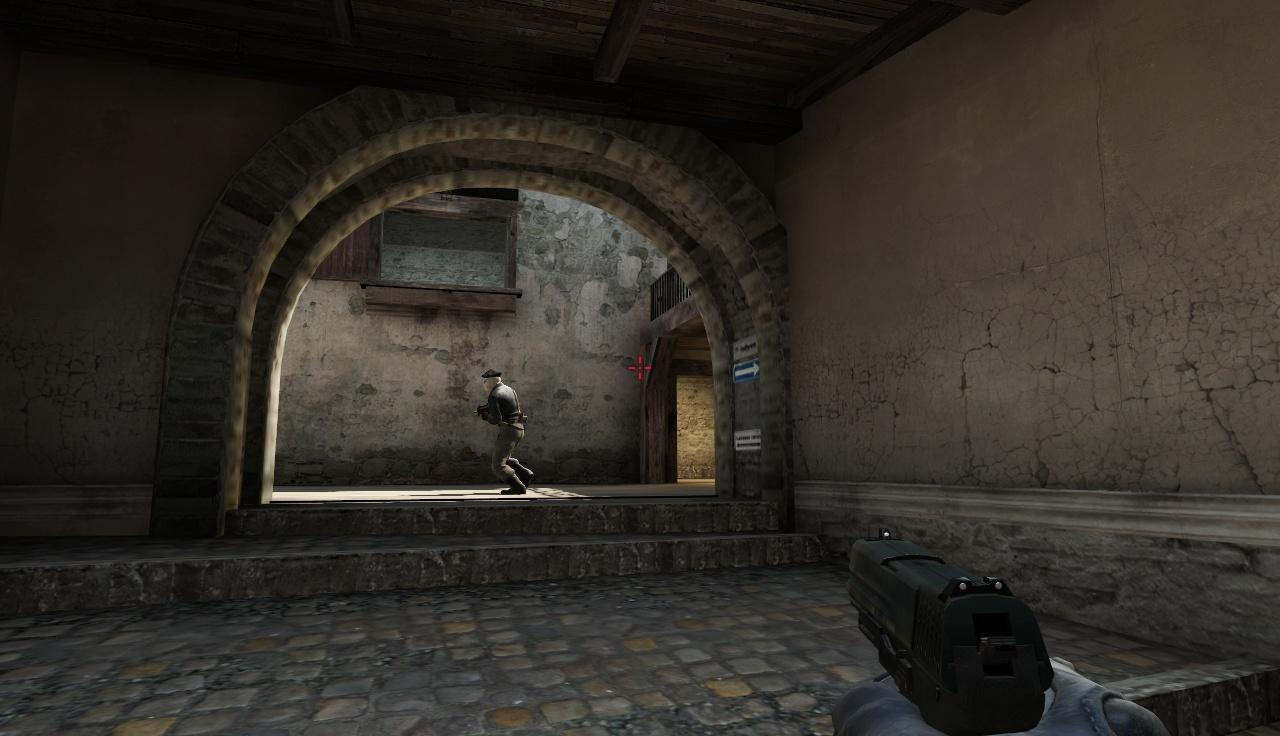pistol: (842, 530, 1088, 736)
tt: (482, 369, 525, 497)
tthead: (483, 370, 502, 392)
